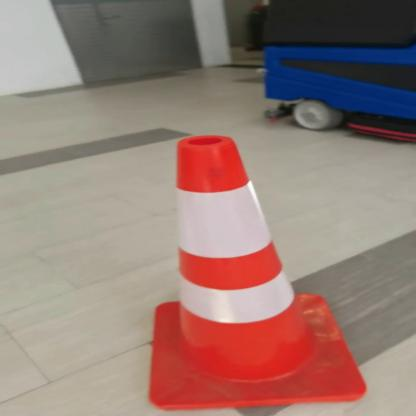cone: (124, 133, 376, 414)
